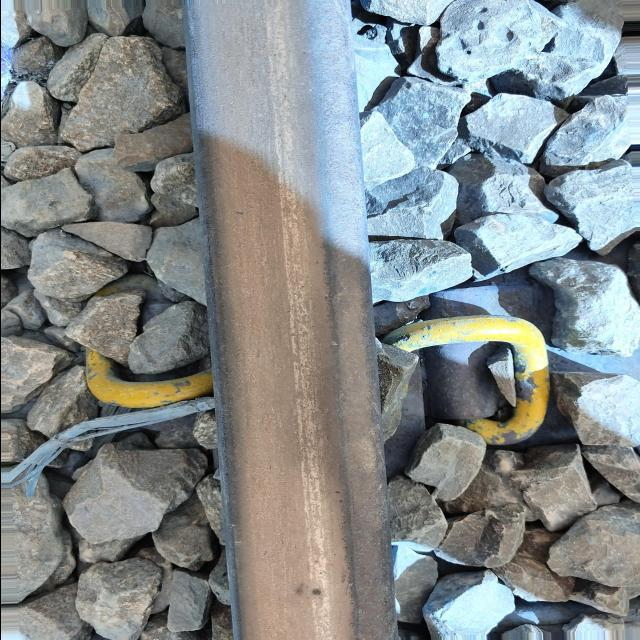broken_rail_medium: (291, 585, 324, 597)
